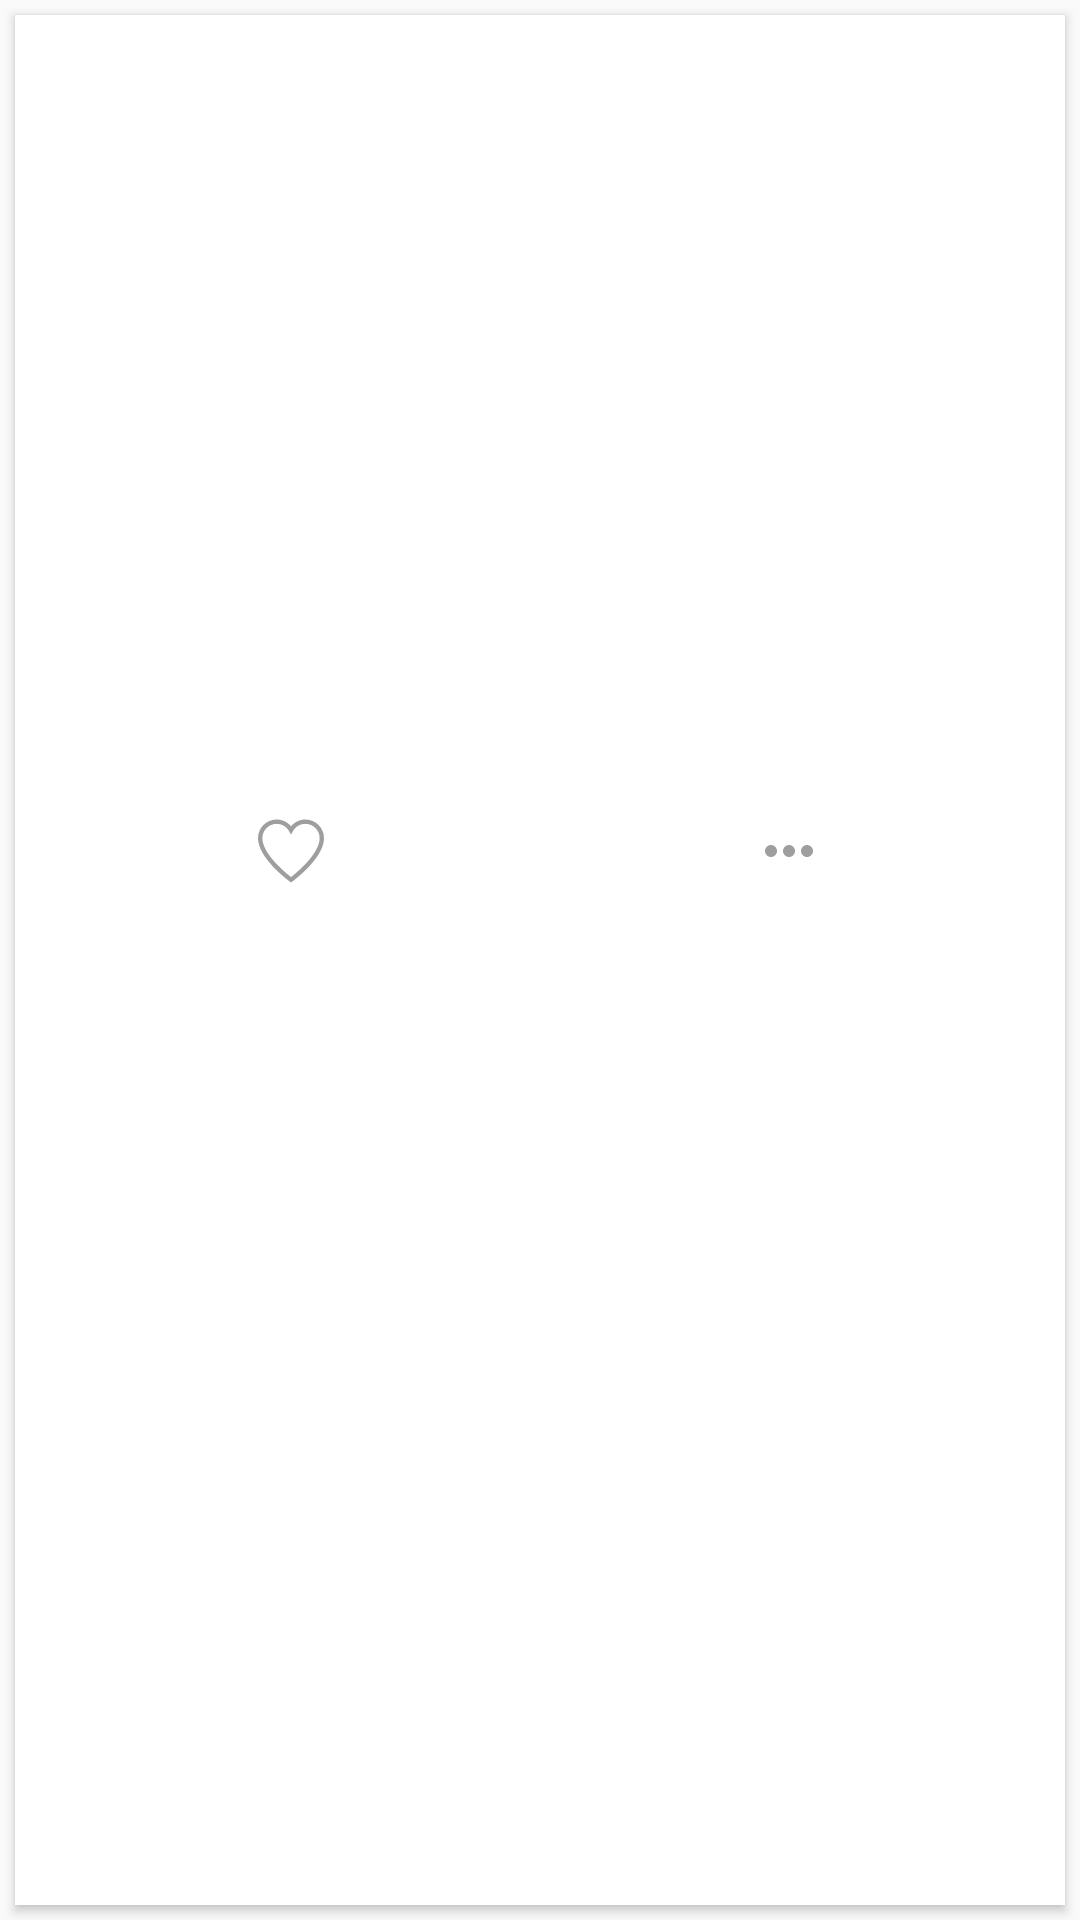

Where to tap for icons on this 1080*1920 app screen, as (x=x, y=y):
dots: (x=789, y=851)
favorite: (x=291, y=850)
